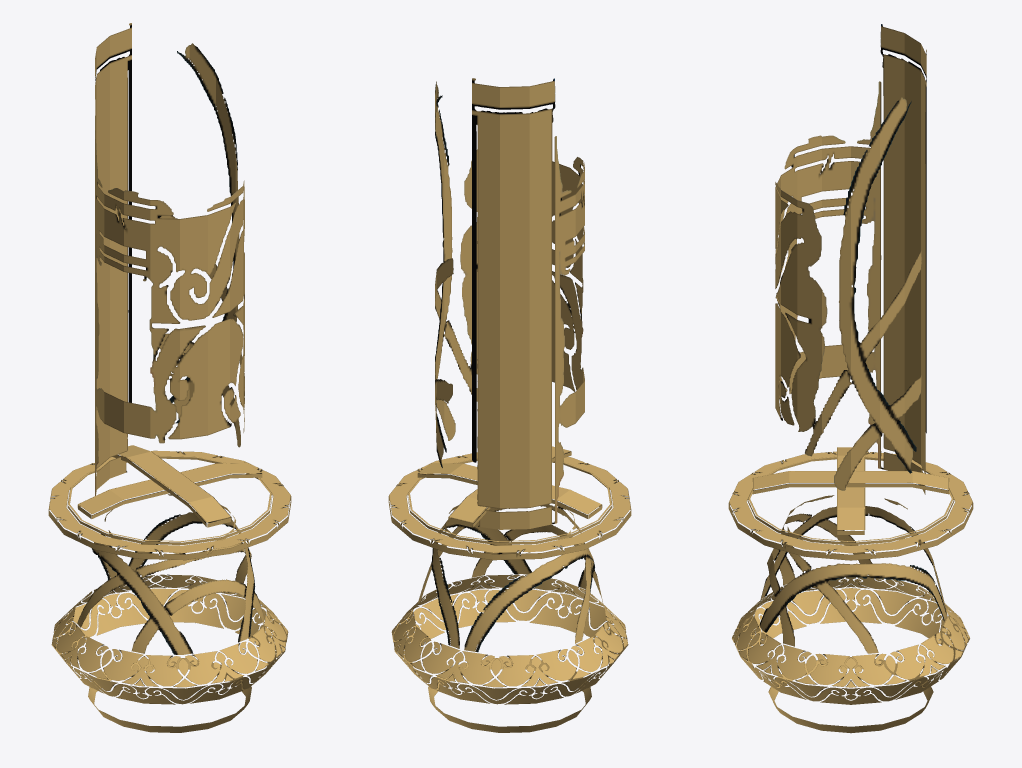
The model's file is zhuangshi_faqi_01.FBX.
3 views of the same model, side by side, from view 1: azimuth 30°, elevation 25°; view 2: azimuth 150°, elevation 25°; view 3: azimuth 270°, elevation 25° (orthographic).
Parts seen in each view (by area): view 1: faqi_03, faqi_01; view 2: faqi_03, faqi_01; view 3: faqi_03, faqi_01.
Part boxes in pixels (left/top/right/bottom): faqi_03: left=95, top=23, right=244, bottom=495; faqi_01: left=48, top=445, right=291, bottom=732; faqi_03: left=435, top=78, right=584, bottom=529; faqi_01: left=388, top=446, right=631, bottom=732; faqi_03: left=775, top=24, right=926, bottom=494; faqi_01: left=728, top=447, right=973, bottom=733.
Bounding box in the file's own units: 0.211 × 0.5085 × 0.211.
1 material, 1 textured.
